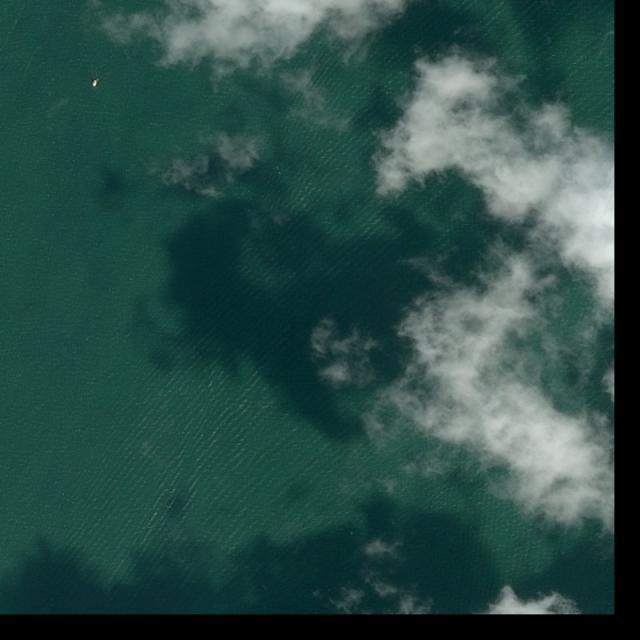ship: (93, 79, 98, 88)
